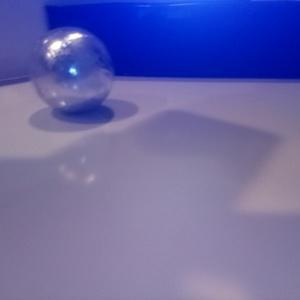alive_ball: (31, 27, 114, 114)
